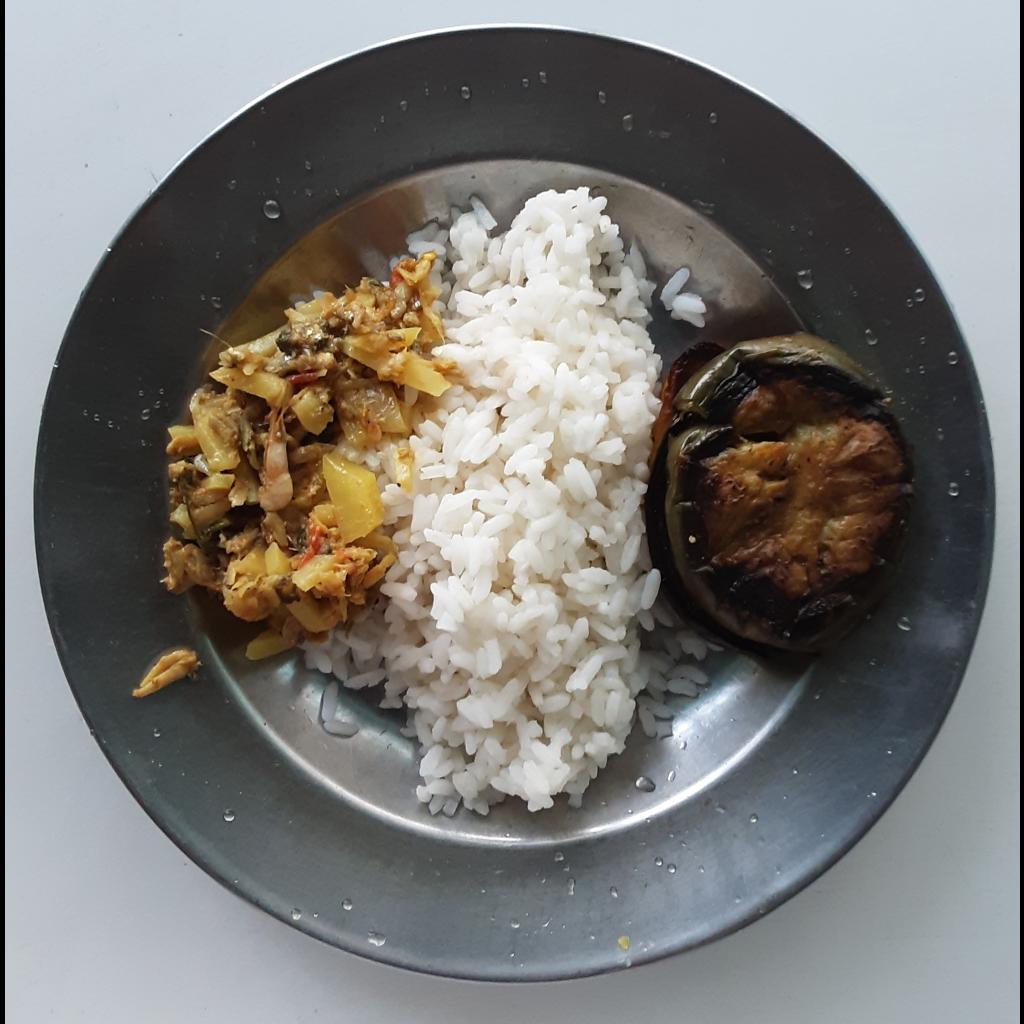begun-vaji: (649, 329, 914, 662)
khichuri: (163, 245, 446, 661)
potato: (324, 455, 374, 543)
rice: (294, 184, 719, 820)
